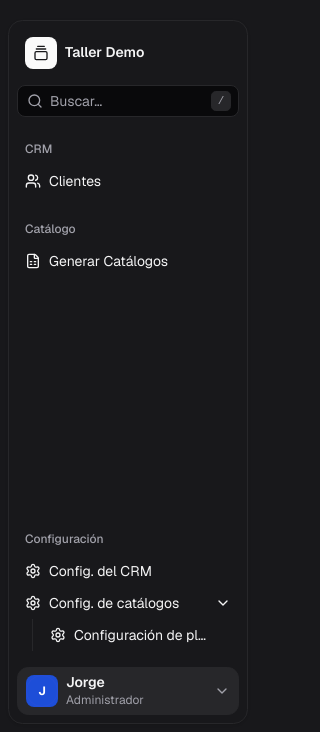
it: AppSidebar — nav restyle (sidebar-redesign WU2) › opens the user menu with Mi cuenta, the theme item and Cerrar sesión, in that order
Click the button "J Jorge Administrador" at (128, 691), box [17,667,239,715]
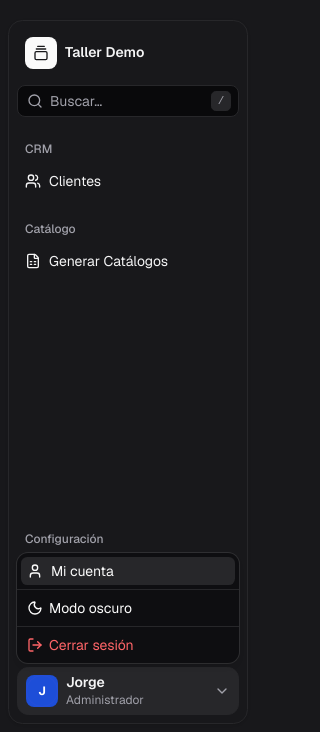
Expected: the menu items read "Mi cuenta", "Modo oscuro", "Cerrar sesión", in this order, [21,557,235,585]; [27,599,132,617]; [27,636,134,654]
